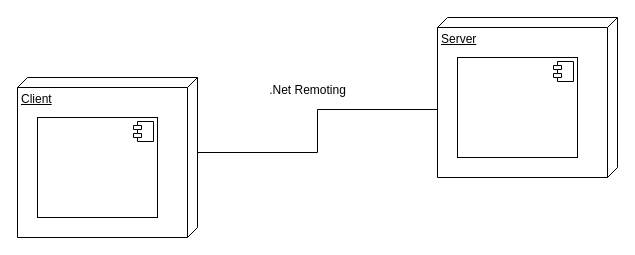
This 635x255 diagram has some shape labels left out. The centre of each missing label's shape, as x and y in pixels:
"Client.exe + Wiindow + DataBase + Table + Row" goes at point 97,167.
"Server.exe + Program.cs + DataBase.cs + Table.cs + Row.cs" goes at point 517,107.
